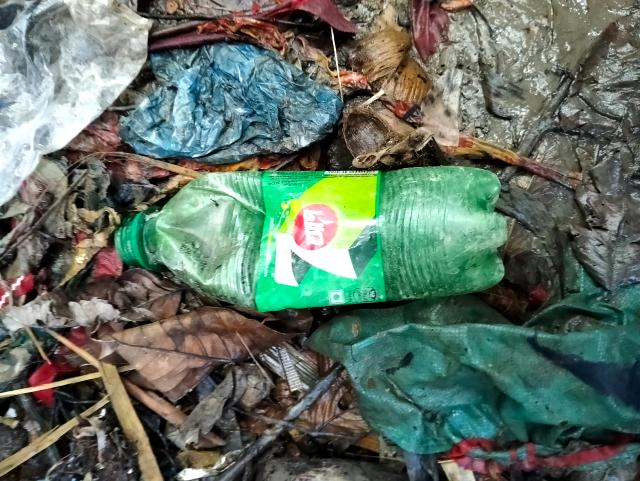bottle: (153, 168, 504, 319)
